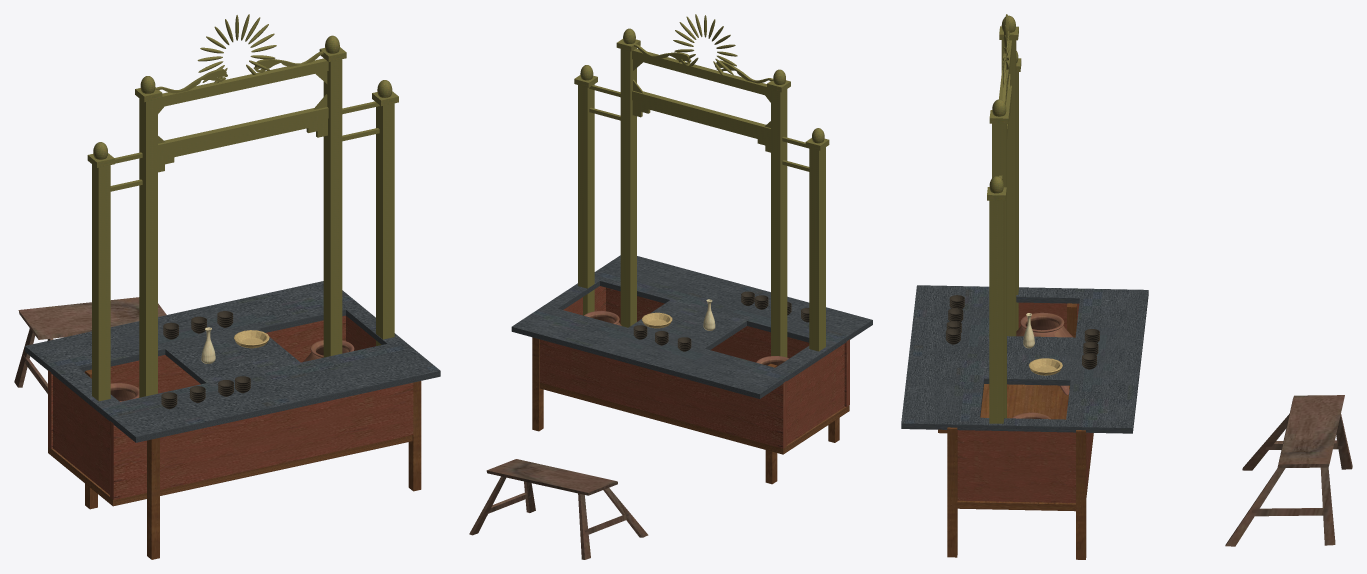
The model's file is 温茶摊01.fbx.
3 renders of one model, left to right at view 1: azimuth 30°, elevation 25°; view 2: azimuth 150°, elevation 25°; view 3: azimuth 270°, elevation 25°, orthographic. The views are drawn at different scales.
Parts seen in each view (by area): view 1: qingmo_obj_079 [10483715], qingmo_obj_089 [10483880], qingmo_obj_098 [10483937], qingmo_obj_063 [10483739], qingmo_obj_067 [10483712], qingmo_obj_102 [10483859], qingmo_obj_105 [10483919], qingmo_obj_103 [10483871]; view 2: qingmo_obj_079 [10483715], qingmo_obj_089 [10483880], qingmo_obj_098 [10483937], qingmo_obj_067 [10483712], qingmo_obj_063 [10483739], qingmo_obj_102 [10483859], qingmo_obj_105 [10483919]; view 3: qingmo_obj_089 [10483880], qingmo_obj_079 [10483715], qingmo_obj_098 [10483937], qingmo_obj_067 [10483712], qingmo_obj_063 [10483739], qingmo_obj_102 [10483859], qingmo_obj_105 [10483919].
Boxes of the visible parts, x1,y1,x2,y2 form: qingmo_obj_079 [10483715]: (87,14,398,401); qingmo_obj_089 [10483880]: (25,281,440,442); qingmo_obj_098 [10483937]: (48,315,413,499); qingmo_obj_063 [10483739]: (48,369,421,559); qingmo_obj_067 [10483712]: (14,297,166,393); qingmo_obj_102 [10483859]: (161,311,250,409); qingmo_obj_105 [10483919]: (110,340,354,401); qingmo_obj_103 [10483871]: (234,330,269,348); qingmo_obj_079 [10483715]: (574,14,829,357); qingmo_obj_089 [10483880]: (511,255,872,398); qingmo_obj_098 [10483937]: (539,286,849,448); qingmo_obj_067 [10483712]: (469,459,648,559); qingmo_obj_063 [10483739]: (532,337,849,484); qingmo_obj_102 [10483859]: (633,291,809,351); qingmo_obj_105 [10483919]: (584,311,788,366); qingmo_obj_089 [10483880]: (901,285,1148,433); qingmo_obj_079 [10483715]: (987,14,1021,423); qingmo_obj_098 [10483937]: (957,302,1092,502); qingmo_obj_067 [10483712]: (1225,395,1352,546); qingmo_obj_063 [10483739]: (938,303,1093,559); qingmo_obj_102 [10483859]: (945,295,1099,369); qingmo_obj_105 [10483919]: (1012,312,1072,419).
Size of the model in its own units: 20.96 by 27.94 by 33.37.
10 materials, 8 textured.
